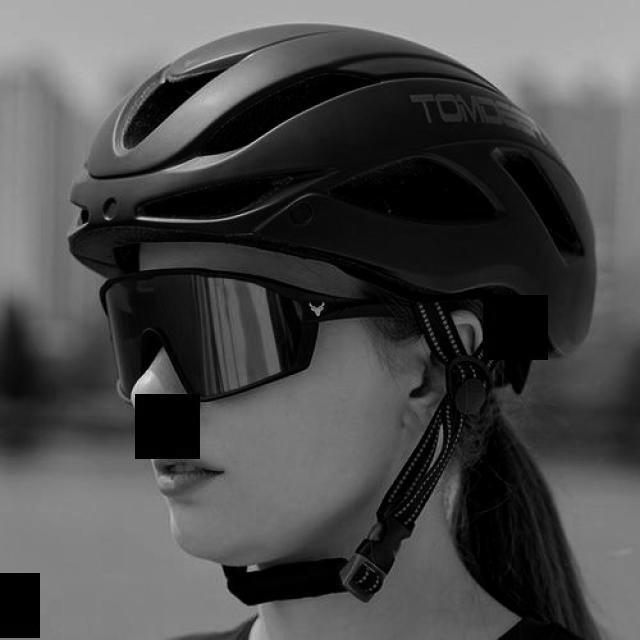helmet: (66, 21, 598, 405)
